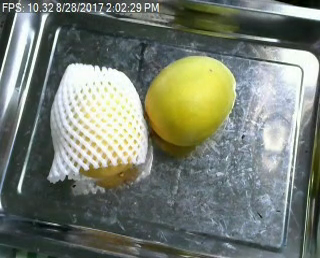Mango: (145, 55, 236, 147)
